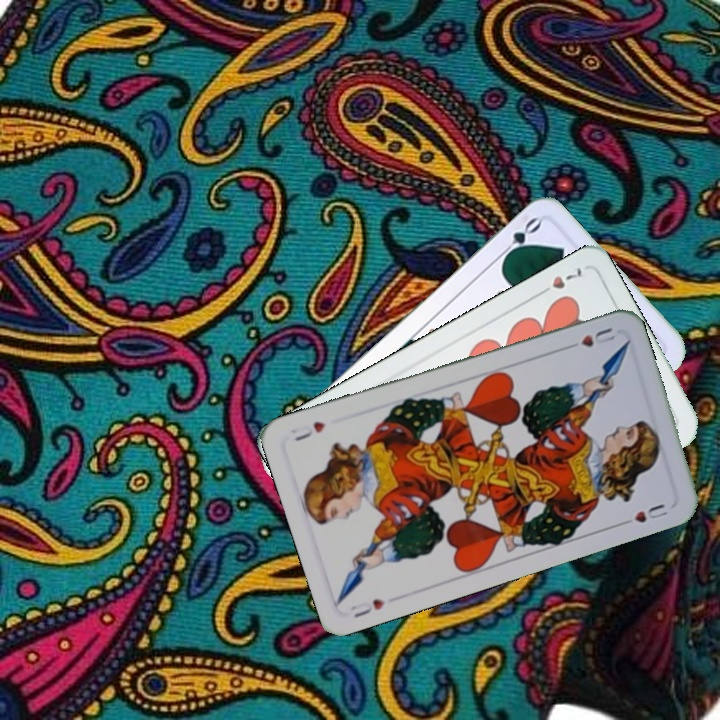GO: (494, 213, 544, 264)
H7: (533, 263, 585, 299)
HU: (561, 323, 620, 353), (346, 594, 388, 621)
